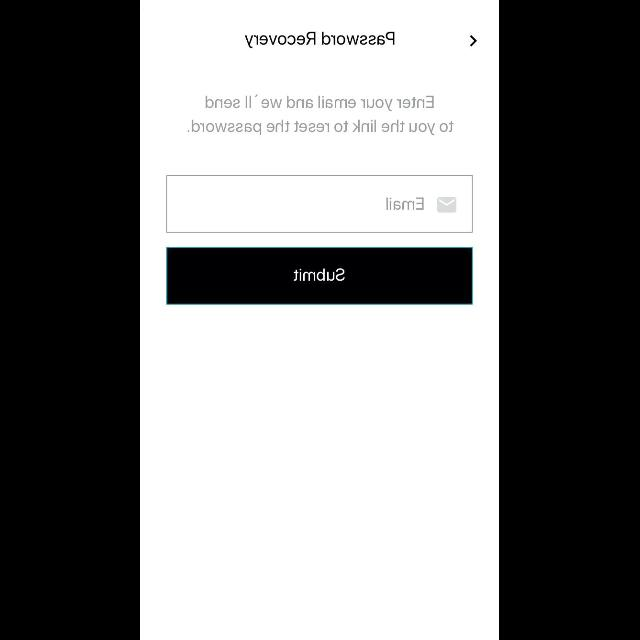icon: (437, 197, 457, 213), (470, 36, 478, 46)
input: (167, 175, 473, 232)
text: (188, 94, 454, 136), (245, 32, 395, 48), (386, 198, 424, 210)
textbutton: (167, 248, 473, 304)
